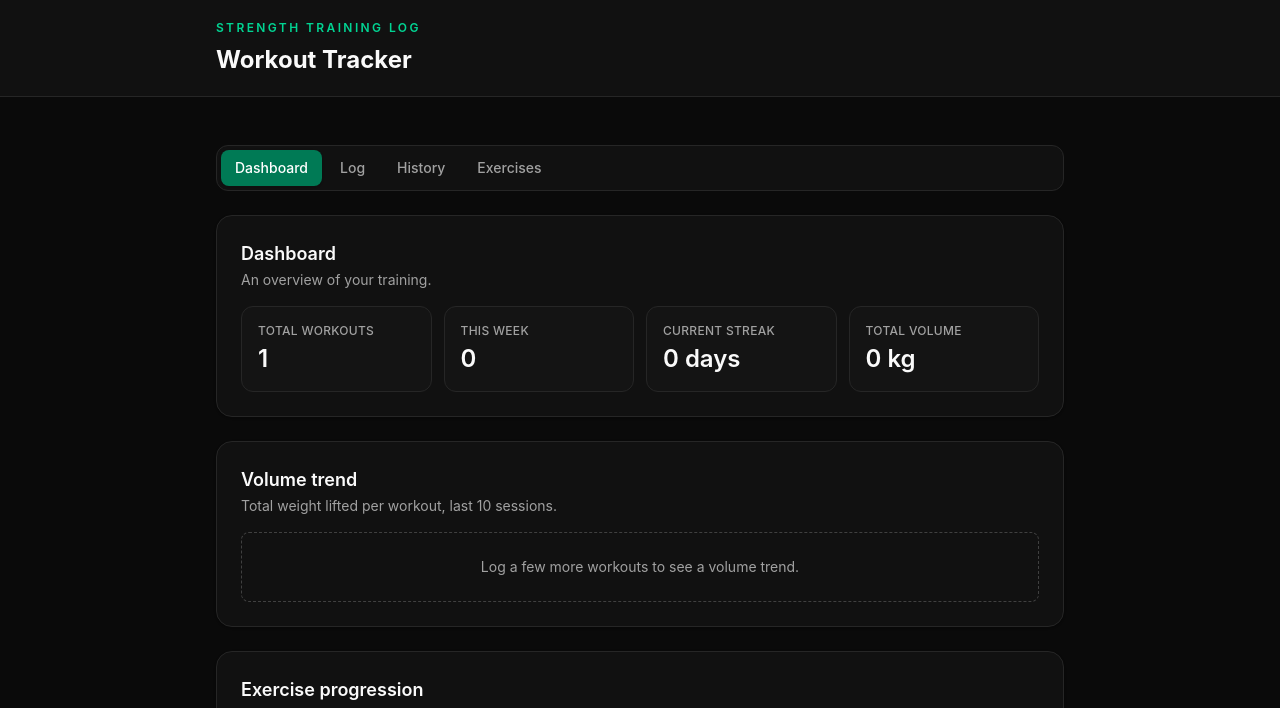
it: keeps history expansion targets present and focus after deleting the last workout
This screenshot has width=1280, height=708.
Click the tab "History" at (421, 168), box [383,150,459,186]
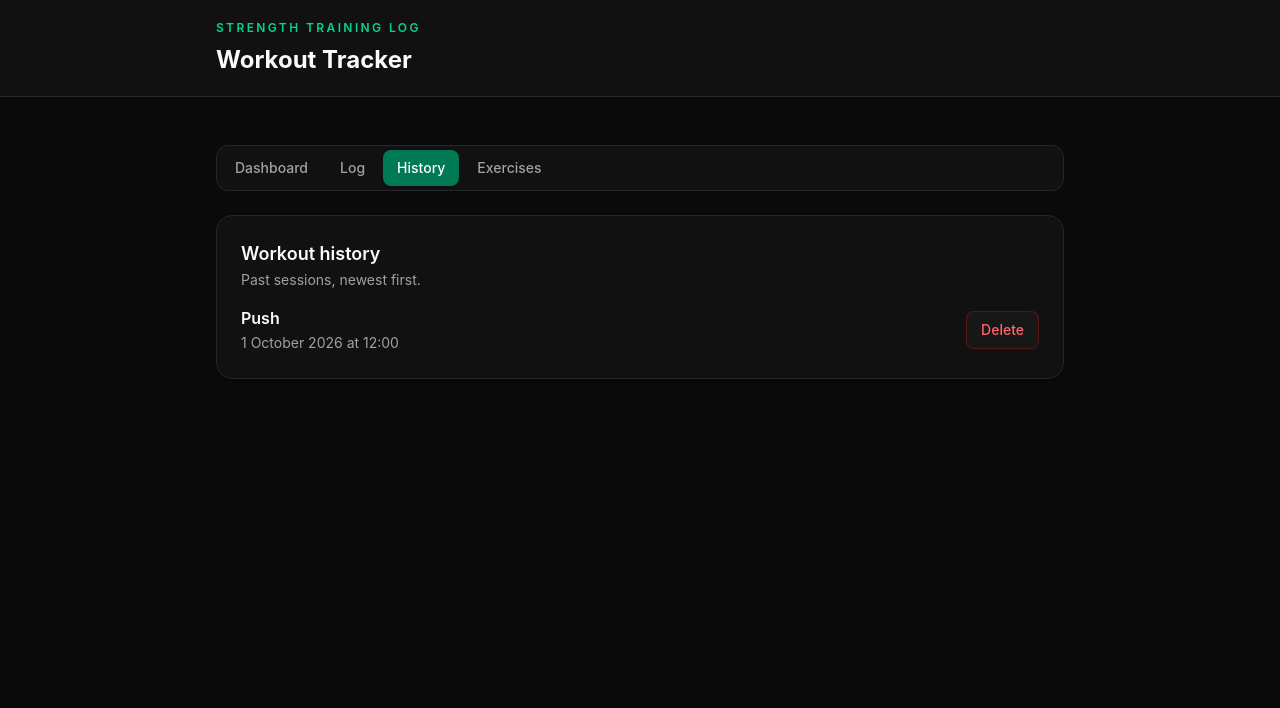
Click the button "Push 1 October 2026 at 12:00" at (320, 330), box [241,306,399,354]
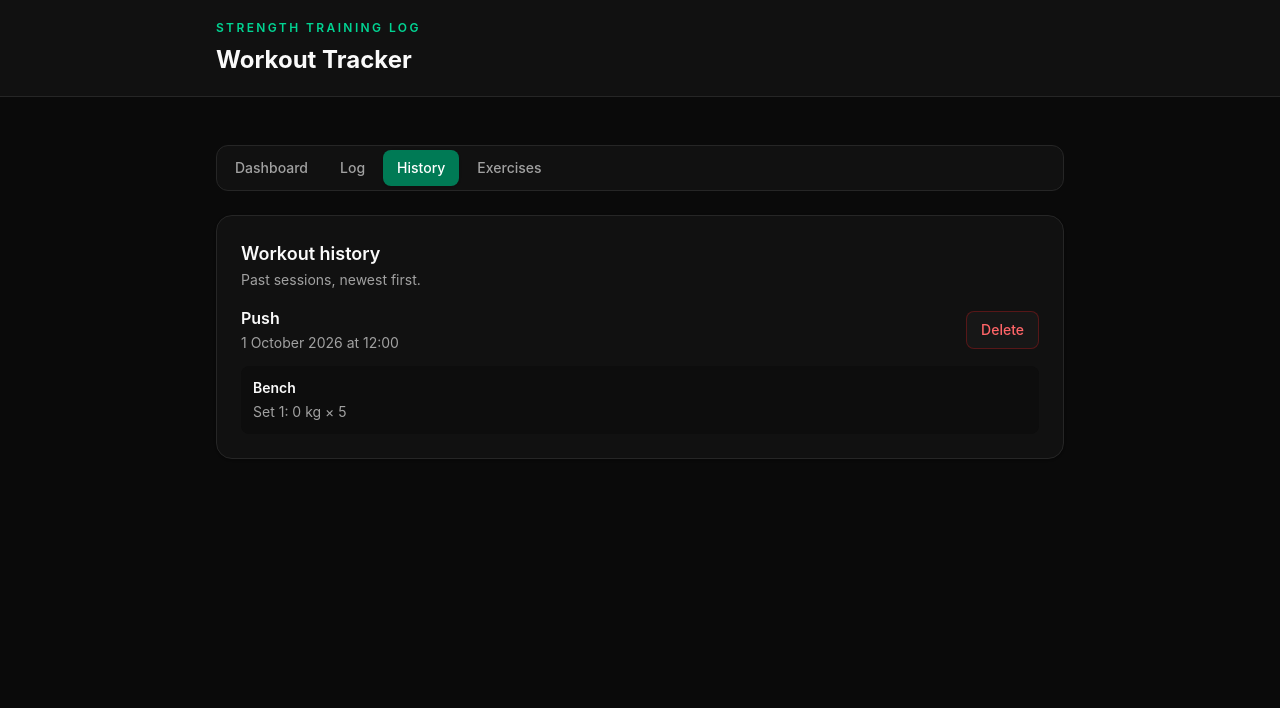
Expected: the button "Delete" is shown
Click the button "Delete" at (1003, 330), box [966,311,1039,349]
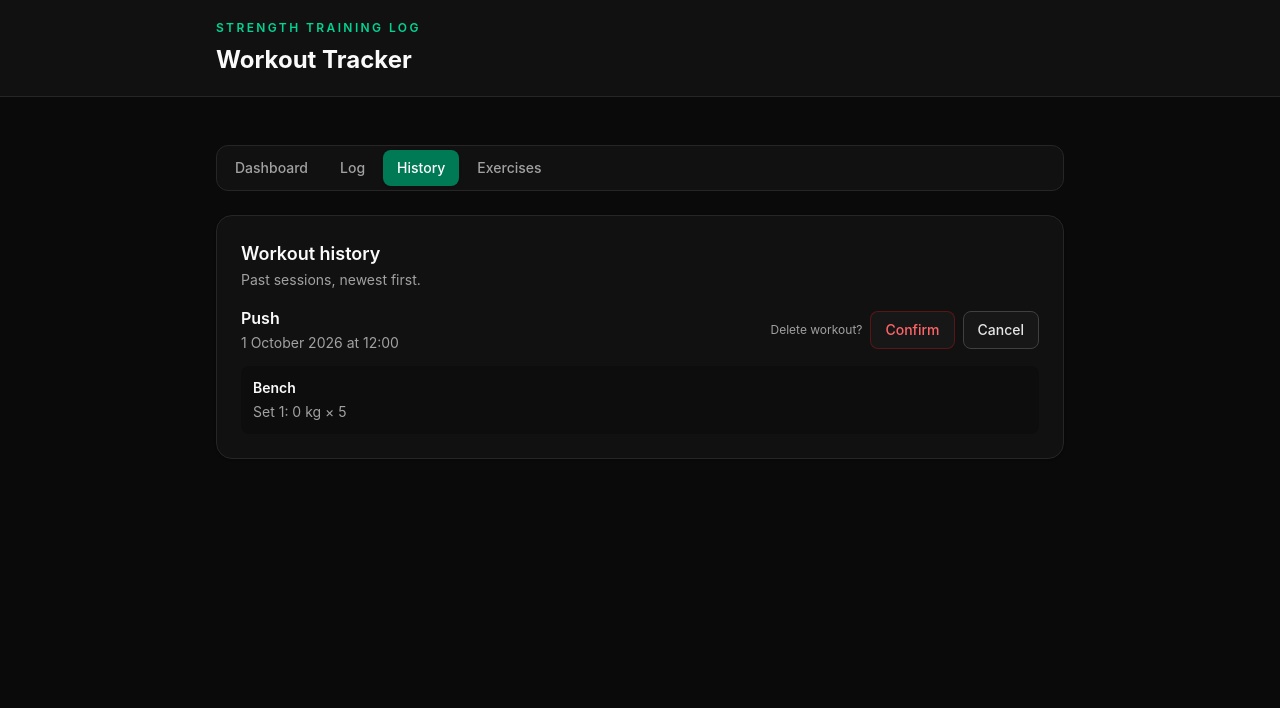
Expected: the button "Confirm" is shown
Click the button "Confirm" at (913, 330), box [870,311,955,349]
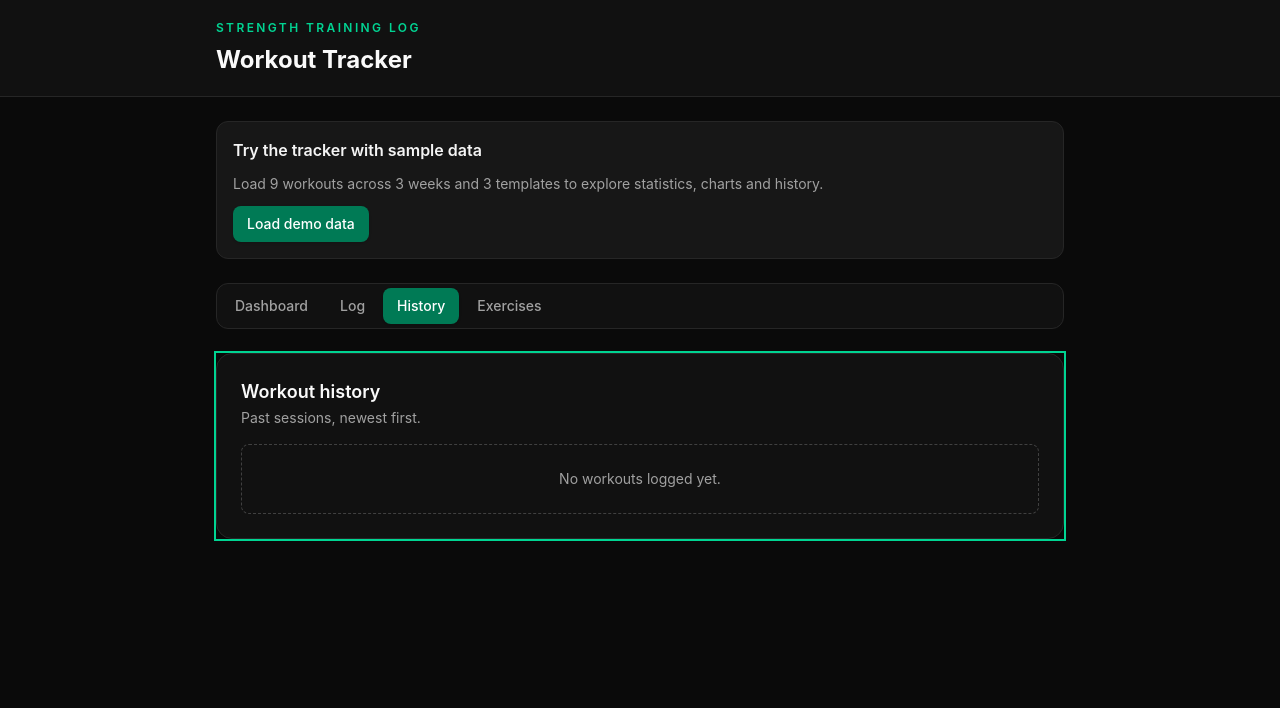
Expected: the text "No workouts logged yet" is shown, [559,470,721,487]
